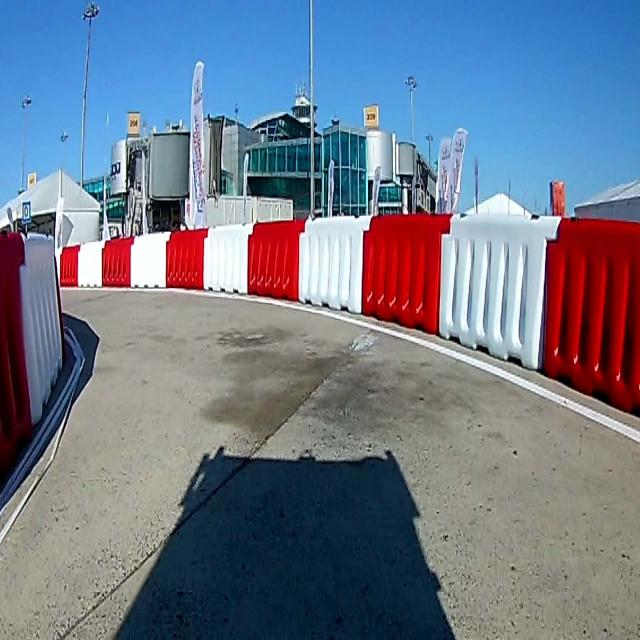durak: (21, 201, 31, 224)
